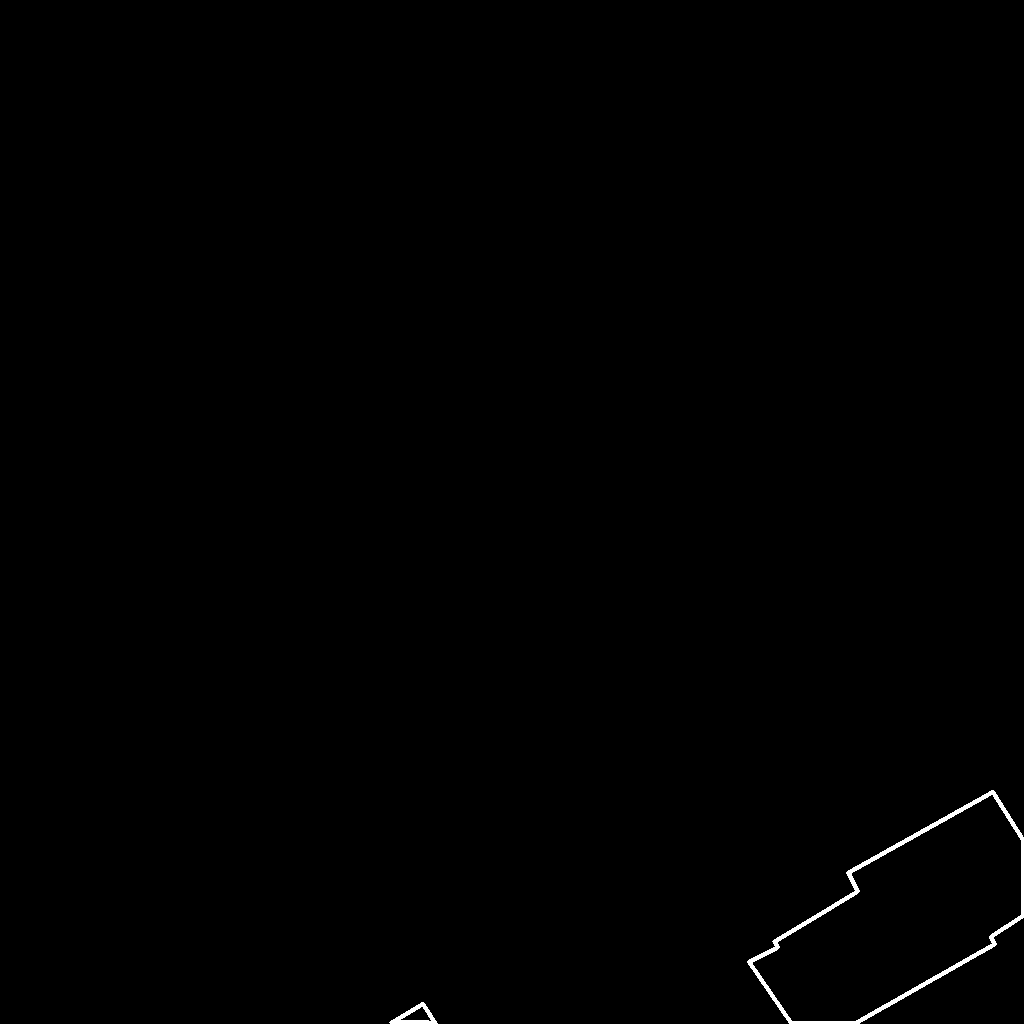building: (749, 792, 1024, 1024), (355, 1004, 437, 1024)
